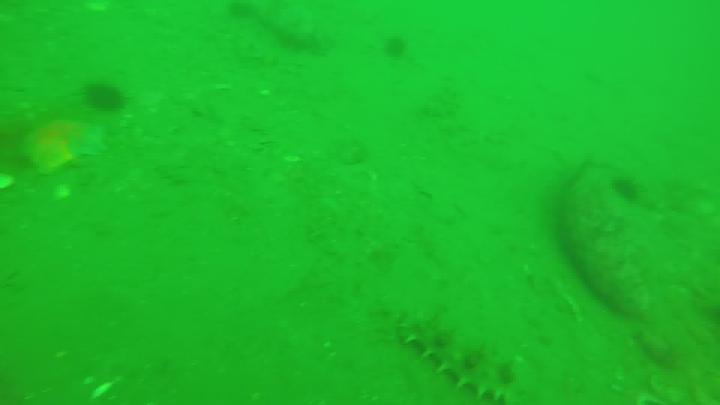echinus: (84, 80, 121, 111), (391, 36, 405, 63)
holothurian: (405, 317, 520, 405)
